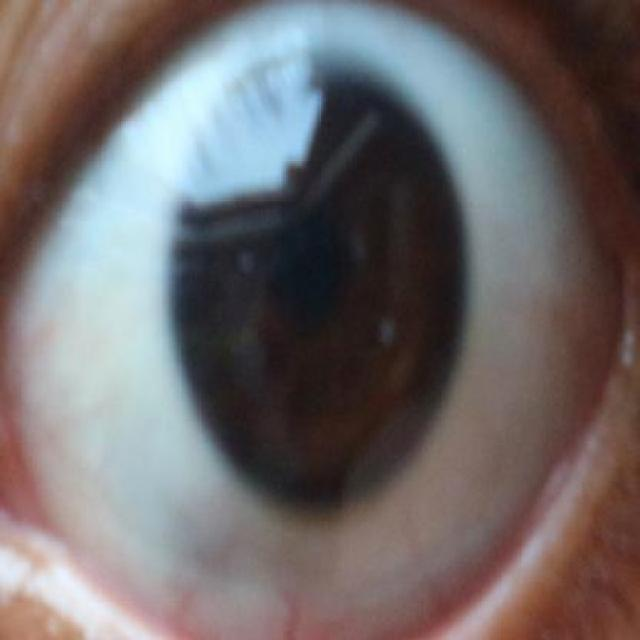Normal: (162, 50, 468, 506)
